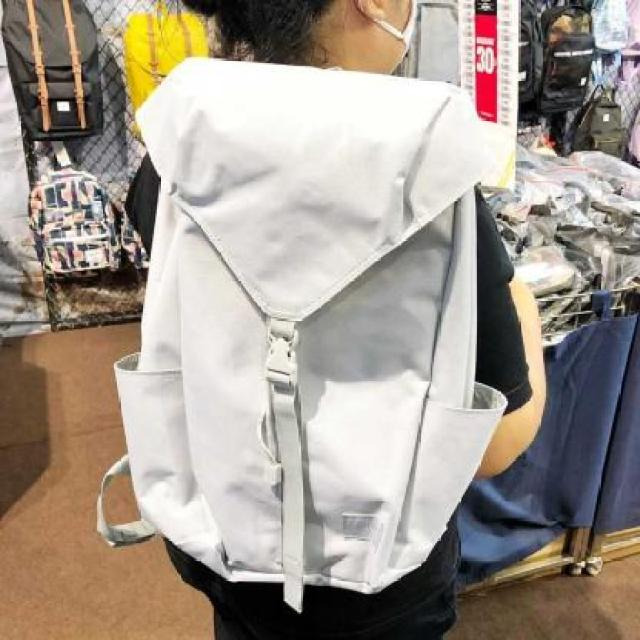Bag: (91, 46, 532, 614)
